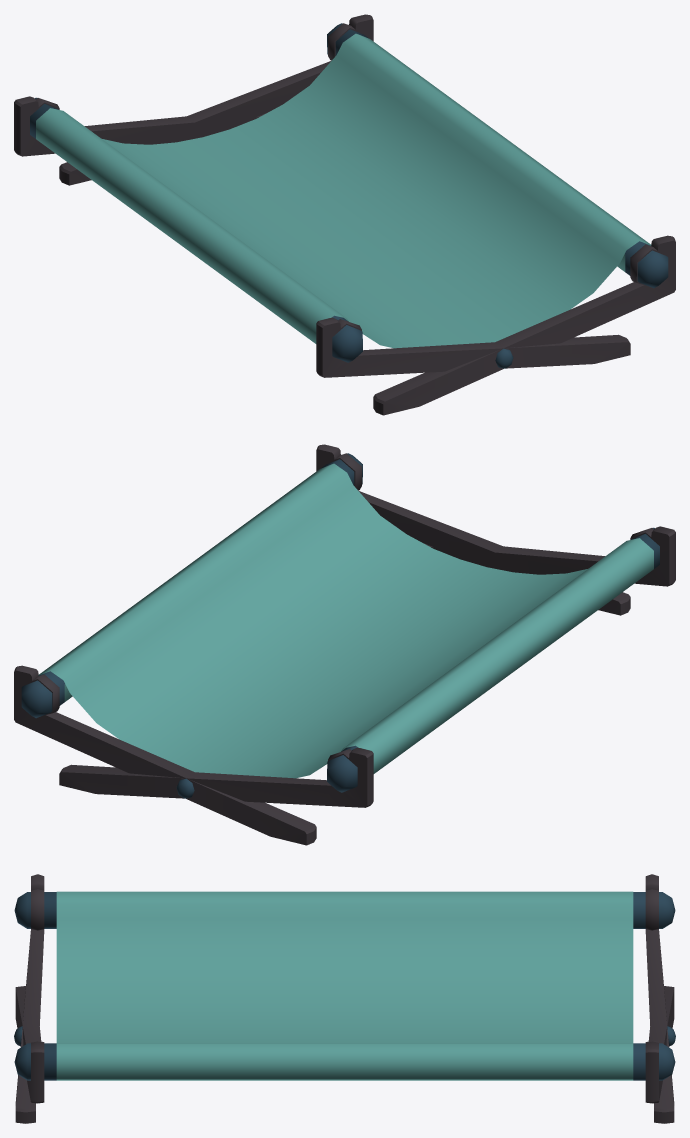
Rendered from 113_cloth_bench.glb.
The picture shows the model from 3 angles, top to bottom: view 1: azimuth 30°, elevation 25°; view 2: azimuth 150°, elevation 25°; view 3: azimuth 270°, elevation 25°; orthographic projection.
Visible parts, largest first — view 1: cloth, clothreverse, legs, bars; view 2: cloth, clothreverse, legs, bars; view 3: cloth, clothreverse, legs, bars.
Boxes of the visible parts, x1,y1,x2,y2 form: cloth: (36,33,651,348); clothreverse: (36,34,646,347); legs: (14,14,675,415); bars: (30,23,668,362); cloth: (38,463,653,778); clothreverse: (43,464,653,778); legs: (14,444,675,845); bars: (21,453,659,792); cloth: (56,891,633,1080); clothreverse: (56,891,633,1080); legs: (15,874,674,1123); bars: (14,892,675,1080).
Bounding box in the file's own units: 1.34 × 0.3523 × 2.12.
